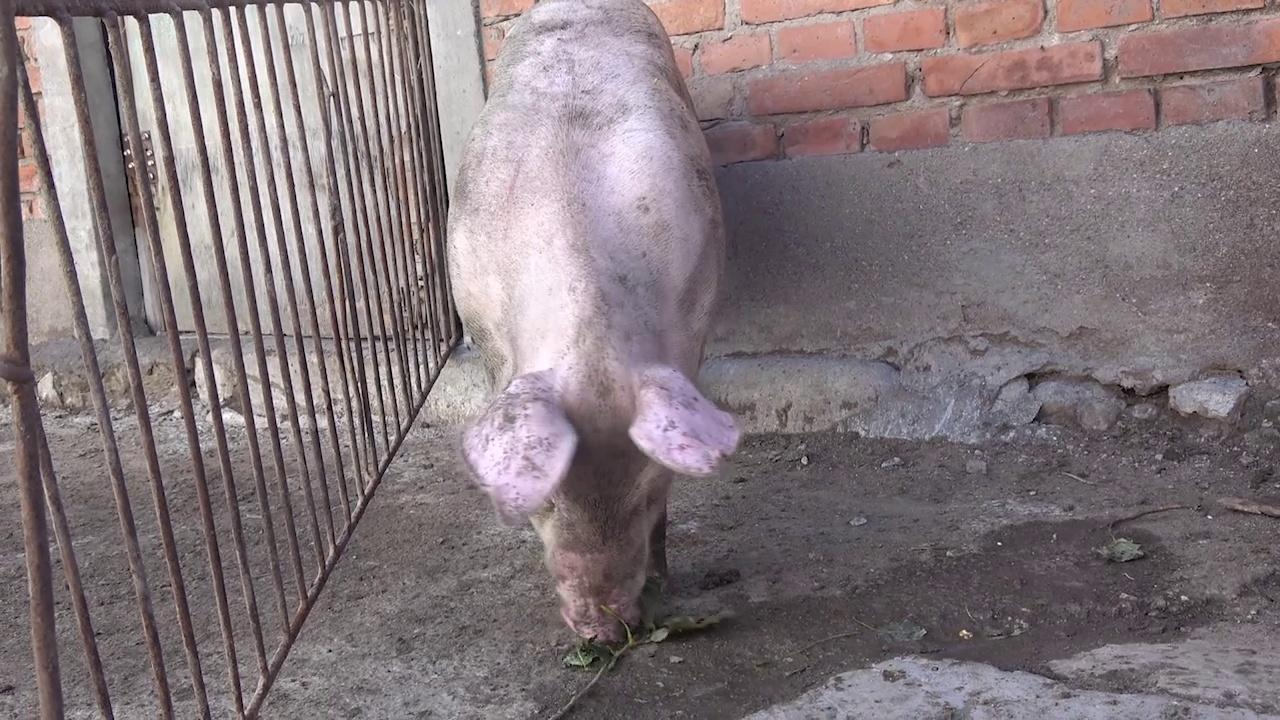Face: (452, 353, 762, 665)
